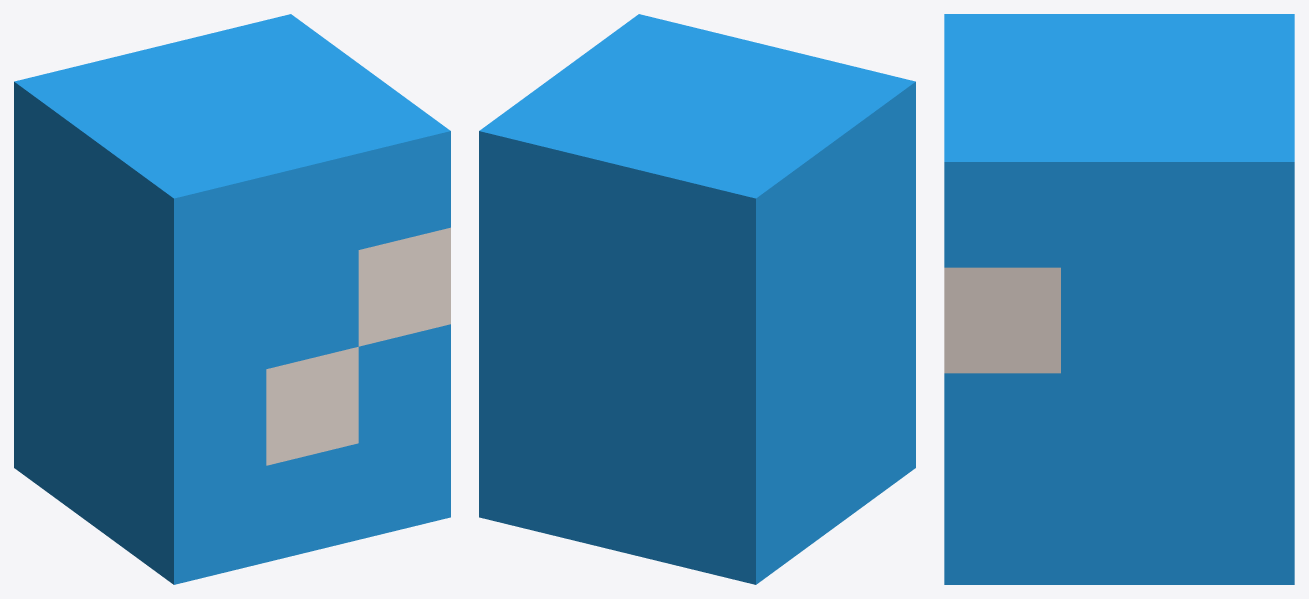
File: blob_b_walk_1.obj
3 views of the same model, side by side, from view 1: azimuth 30°, elevation 25°; view 2: azimuth 150°, elevation 25°; view 3: azimuth 270°, elevation 25° (orthographic). The views are drawn at different scales.
Bounding box in the file's own units: 0.3 × 0.4 × 0.3.
1 material, 1 textured.
